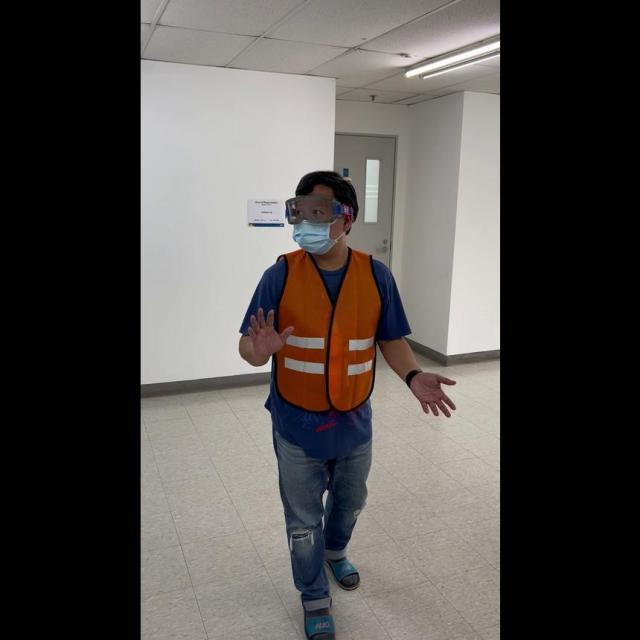bare_hand: (242, 302, 292, 360), (406, 368, 456, 418)
